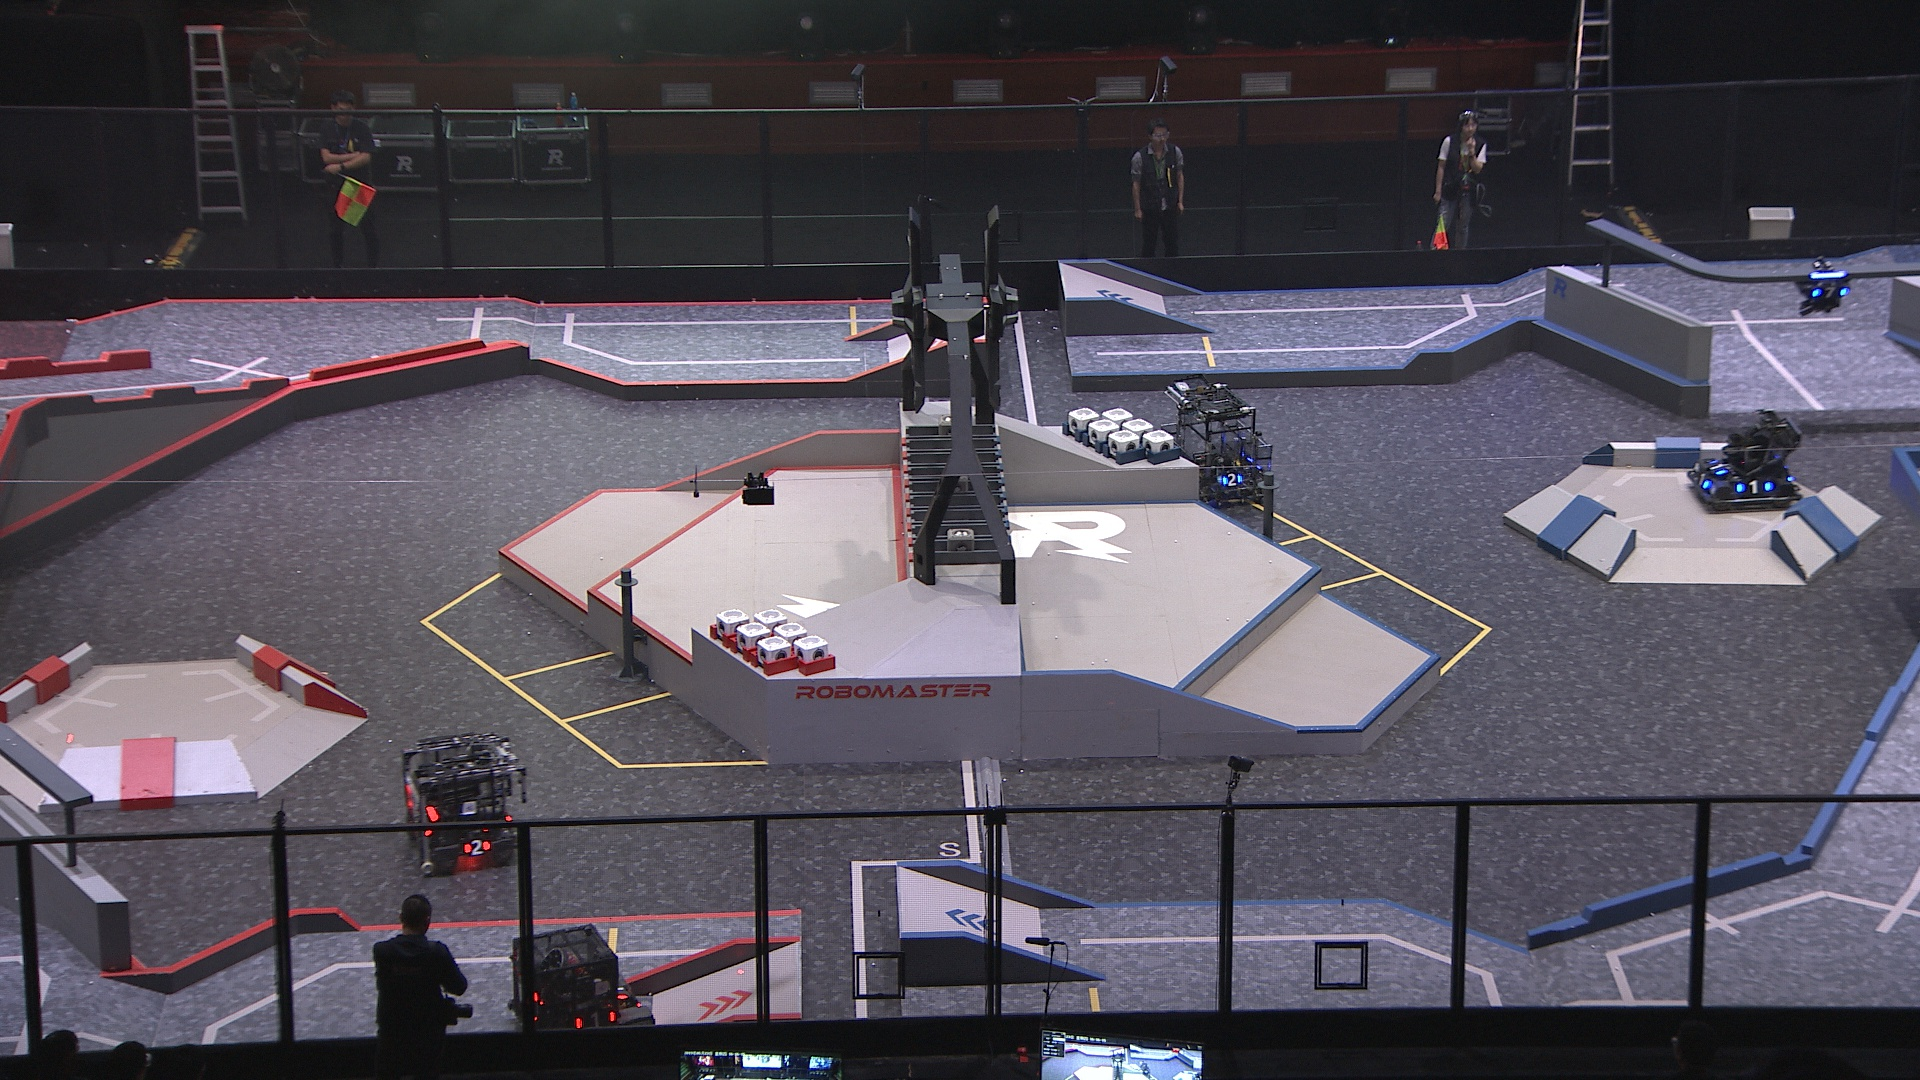armor: (575, 1010, 617, 1030), (462, 839, 493, 860), (1735, 479, 1770, 496), (1813, 286, 1850, 301), (1708, 458, 1727, 477), (1222, 472, 1245, 489), (611, 984, 629, 1002), (1697, 471, 1712, 491)
car: (506, 922, 655, 1054), (398, 732, 529, 874), (1153, 381, 1276, 506), (1683, 409, 1812, 514)
watcher: (1793, 261, 1854, 314)
